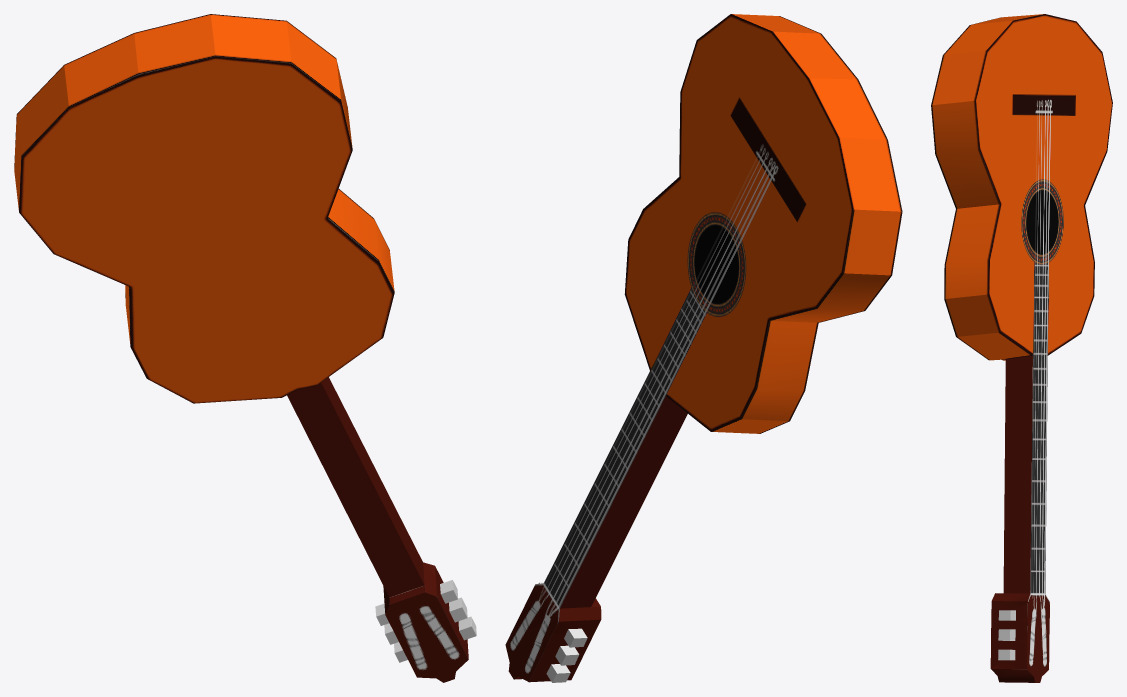
Rendered from Guitarra2_000001.obj.
3 renders of one model, left to right at view 1: azimuth 30°, elevation 25°; view 2: azimuth 150°, elevation 25°; view 3: azimuth 270°, elevation 25°, orthographic. The views are drawn at different scales.
Visible parts, largest first — view 1: g2_pPlane4.001; view 2: g2_pPlane4.001; view 3: g2_pPlane4.001.
Boxes of the visible parts, x1,y1,x2,y2 form: g2_pPlane4.001: (14, 14, 476, 682); g2_pPlane4.001: (505, 14, 902, 682); g2_pPlane4.001: (931, 14, 1112, 682).
Bounding box in the file's own units: 7.23 × 11.69 × 3.36.
